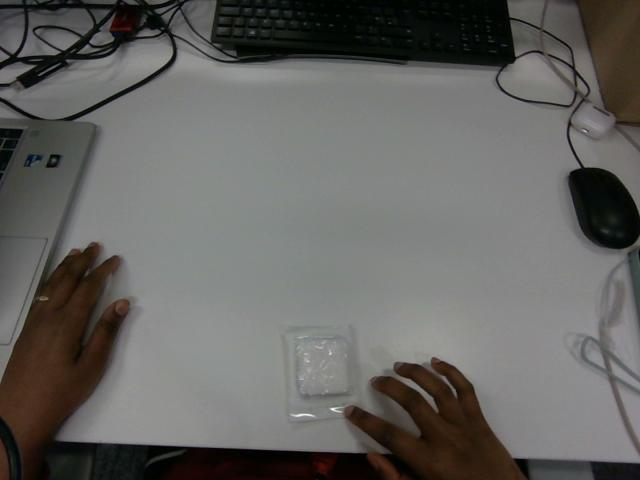gauze: (281, 326, 355, 420)
